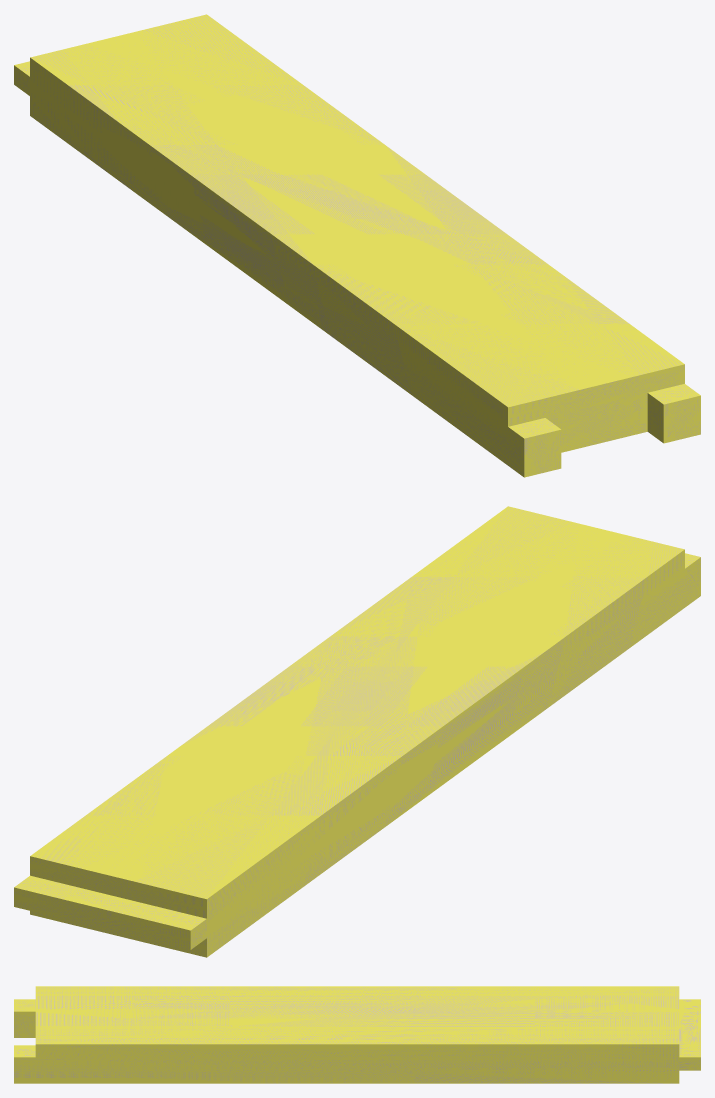
File: original-35.obj
3 views of the same model, one above another, from view 1: azimuth 30°, elevation 25°; view 2: azimuth 150°, elevation 25°; view 3: azimuth 270°, elevation 25° (orthographic). The views are drawn at different scales.
Visible parts, largest first — view 1: center_drawer_runner1/center_drawer_runner/mesh69/mesh69-geometr; view 2: center_drawer_runner1/center_drawer_runner/mesh69/mesh69-geometr; view 3: center_drawer_runner1/center_drawer_runner/mesh69/mesh69-geometr.
Boxes of the visible parts, x1,y1,x2,y2 form: center_drawer_runner1/center_drawer_runner/mesh69/mesh69-geometr: [14, 14, 700, 477]; center_drawer_runner1/center_drawer_runner/mesh69/mesh69-geometr: [14, 506, 700, 957]; center_drawer_runner1/center_drawer_runner/mesh69/mesh69-geometr: [14, 986, 700, 1083].
Bounding box in the file's own units: 0.0723 × 0.0228 × 0.3616.
